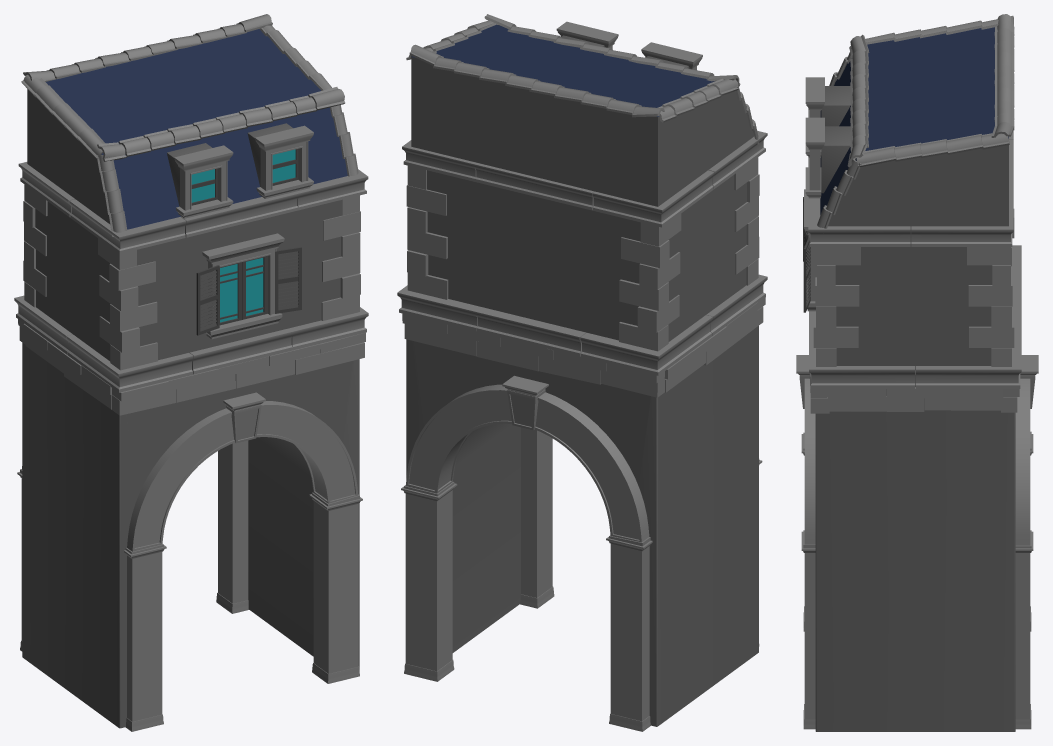
File: SM_building_gate.fbx
3 renders of one model, left to right at view 1: azimuth 30°, elevation 25°; view 2: azimuth 150°, elevation 25°; view 3: azimuth 270°, elevation 25°, orthographic. The views are drawn at different scales.
Visible parts, largest first — view 1: Object525; view 2: Object525; view 3: Object525.
Boxes of the visible parts, x1,y1,x2,y2 form: Object525: (14,14,368,731); Object525: (397,14,767,731); Object525: (796,14,1038,731).
Size of the model in its own units: 209 by 469 by 171.
